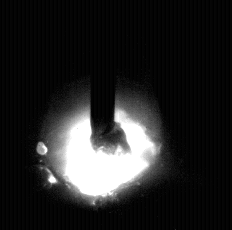arame: (91, 0, 116, 154)
poca: (38, 0, 163, 230)
